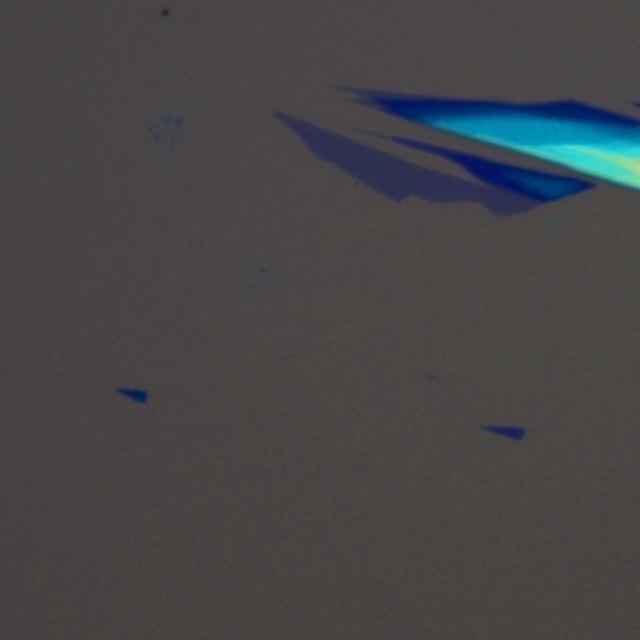monolayer-eWW4: (269, 105, 543, 222)
